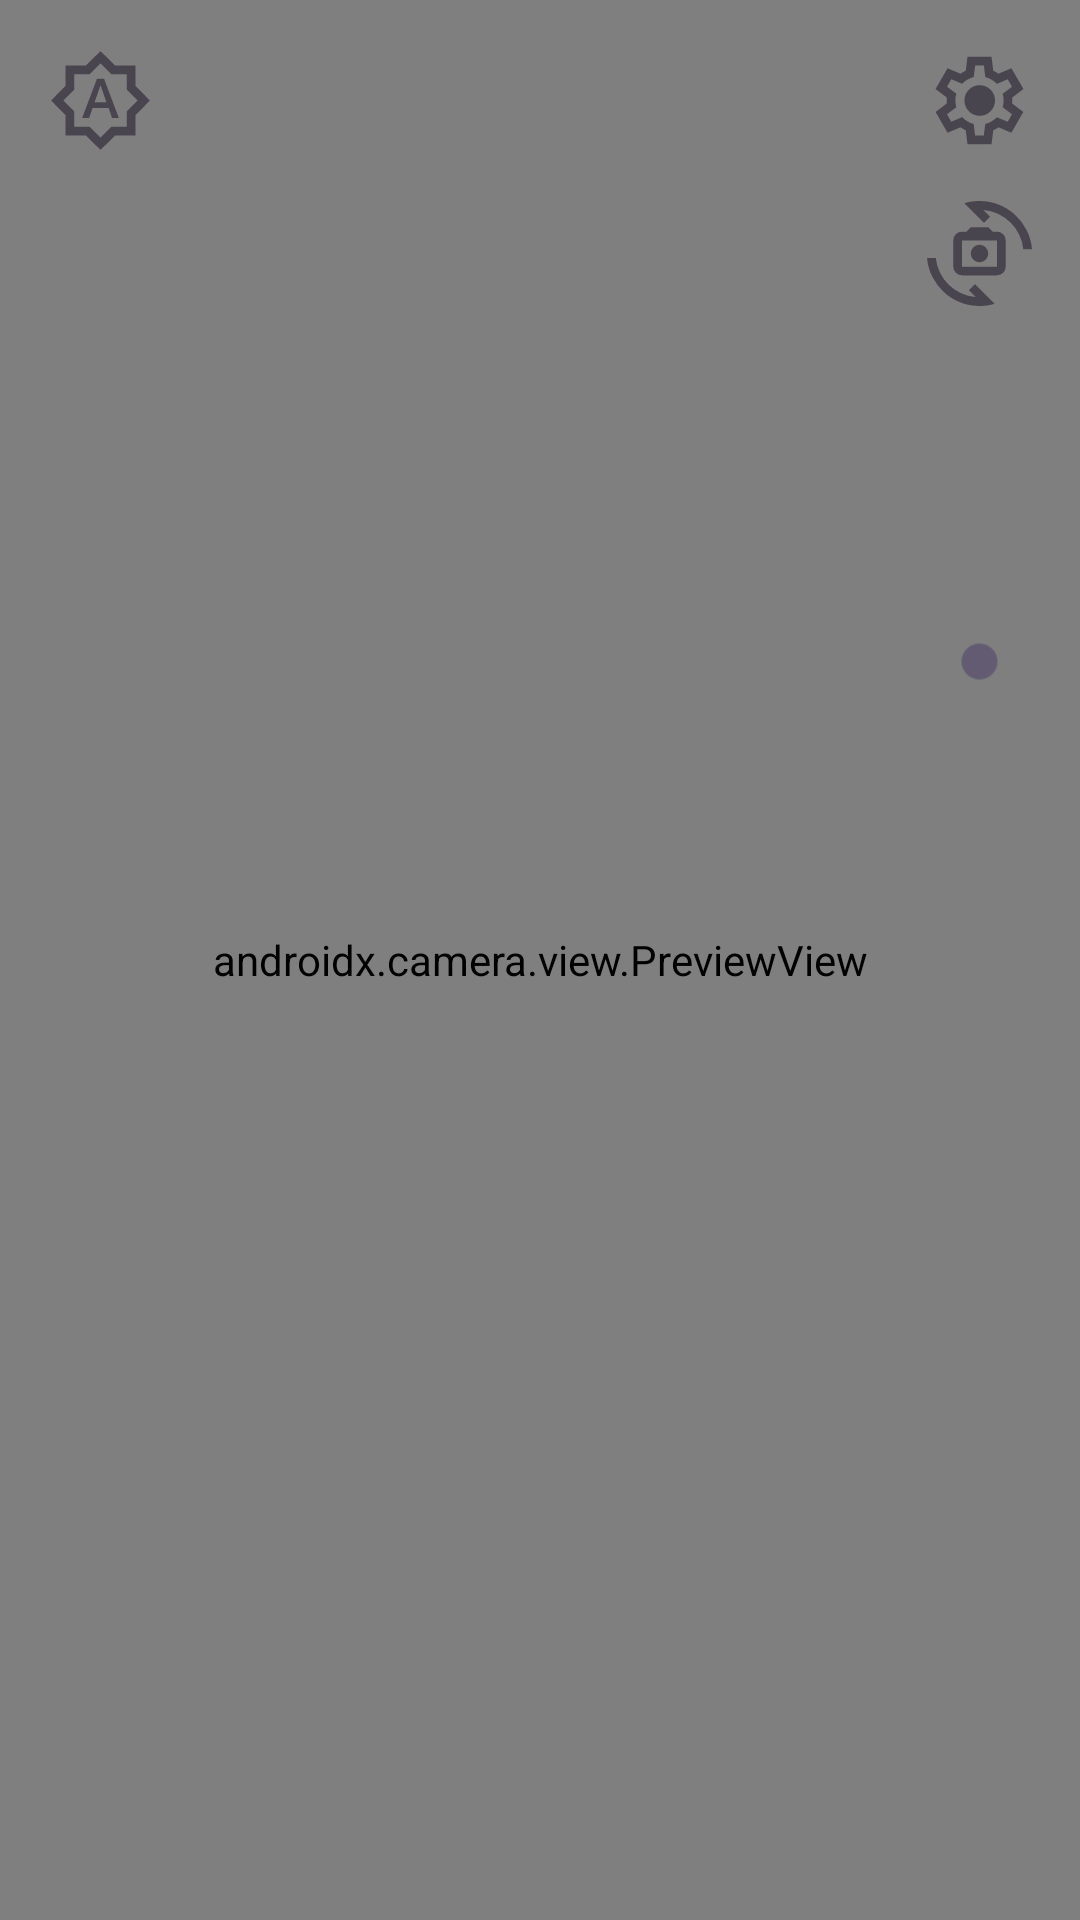

Icon click points for this 1080x1920 phone screenshot, format [x,y]:
brightness auto: [100,100]
cameraswitch: [979,253]
settings: [979,100]
